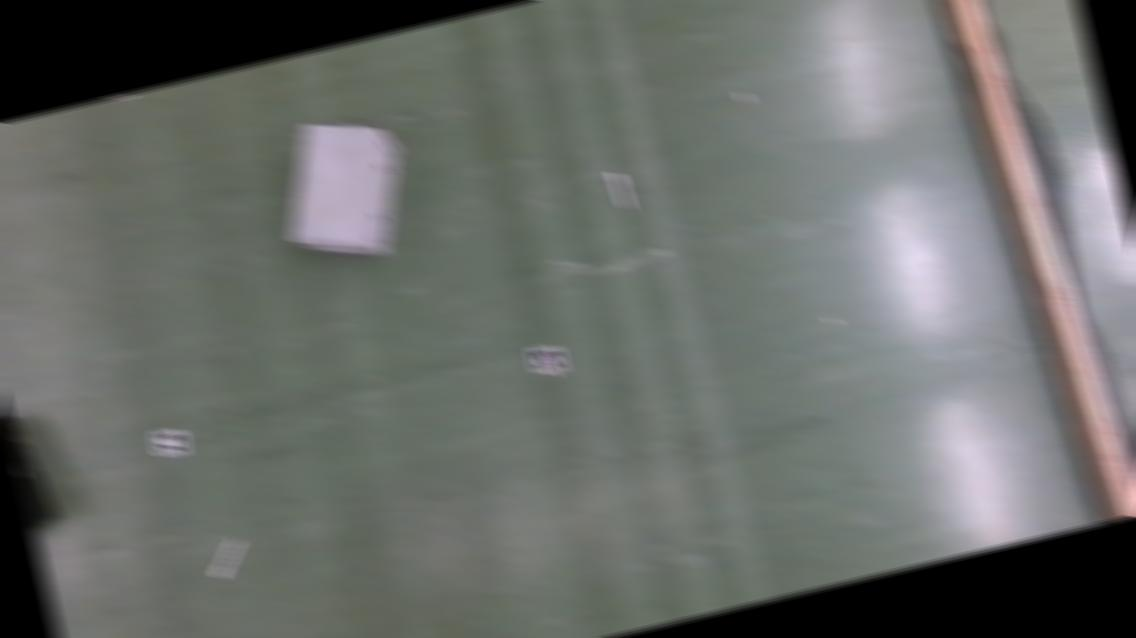probes: (208, 538, 250, 580), (609, 171, 634, 213)
rako: (265, 107, 423, 276), (4, 408, 66, 546)
